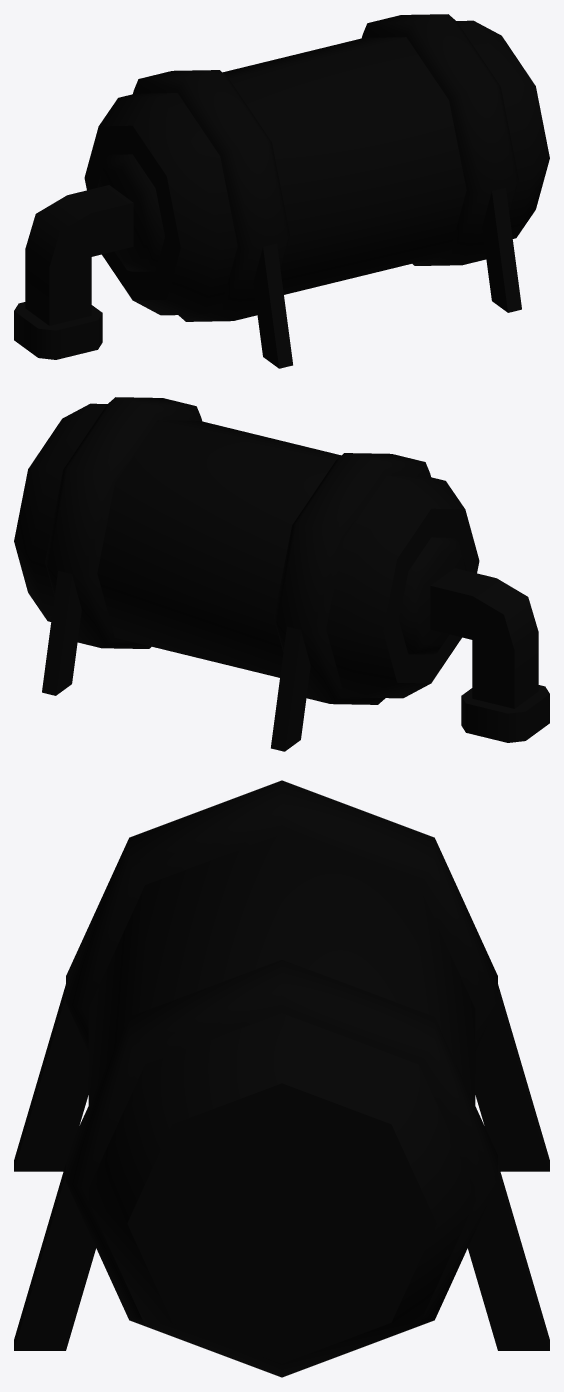
Rendered from detail-tank.glb.
3 views of the same model, one above another, from view 1: azimuth 30°, elevation 25°; view 2: azimuth 150°, elevation 25°; view 3: azimuth 270°, elevation 25° (orthographic). The views are drawn at different scales.
Visible parts, largest first — view 1: detail-tank; view 2: detail-tank; view 3: detail-tank.
Boxes of the visible parts, x1,y1,x2,y2 form: detail-tank: (14, 14, 549, 368); detail-tank: (14, 397, 549, 751); detail-tank: (14, 780, 549, 1377).
Size of the model in its own units: 0.848 by 0.4152 by 0.5153.
Materials: 1 (1 with a texture image).
